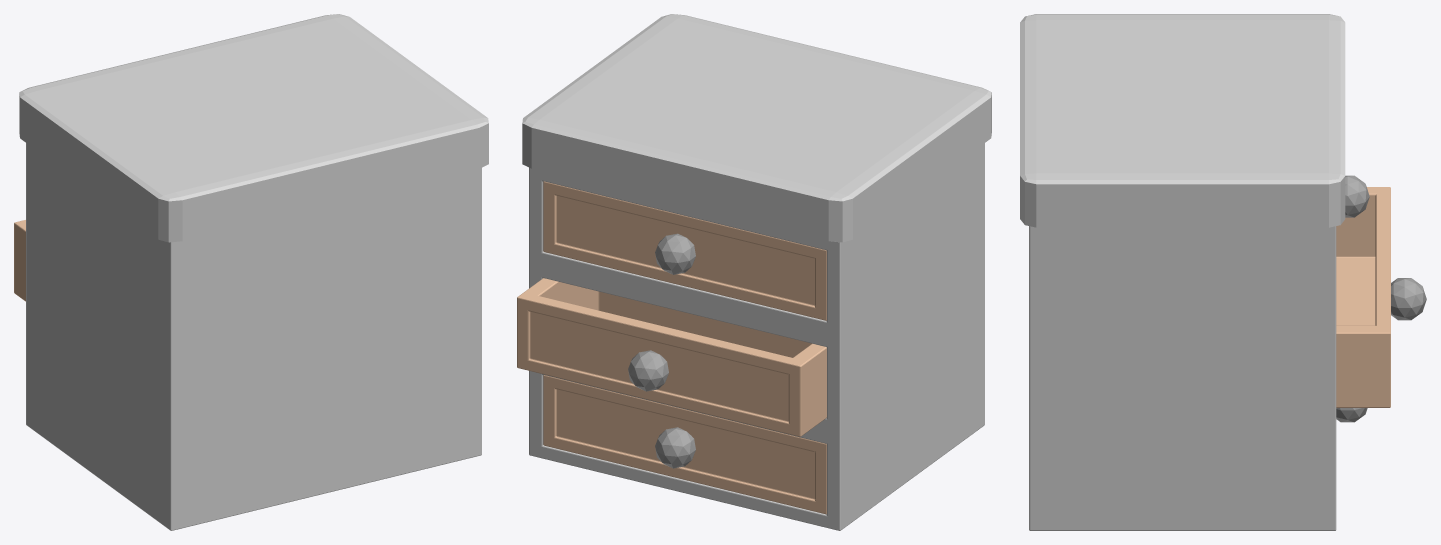
Rendered from Bedside_table.fbx.
3 views of the same model, side by side, from view 1: azimuth 30°, elevation 25°; view 2: azimuth 150°, elevation 25°; view 3: azimuth 270°, elevation 25° (orthographic). The views are drawn at different scales.
Visible parts, largest first — view 1: Bedside table; view 2: Bedside table; view 3: Bedside table.
Boxes of the visible parts, bbox=[...] form: Bedside table: bbox=[14, 14, 488, 530]; Bedside table: bbox=[517, 14, 991, 530]; Bedside table: bbox=[1020, 14, 1426, 530].
Size of the model in its own units: 117 by 114 by 118.
